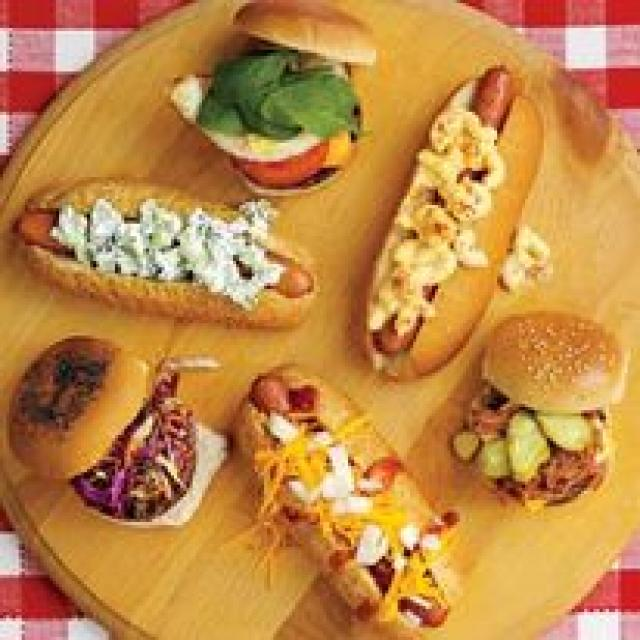Burger: (3, 326, 221, 528), (466, 308, 621, 507)
